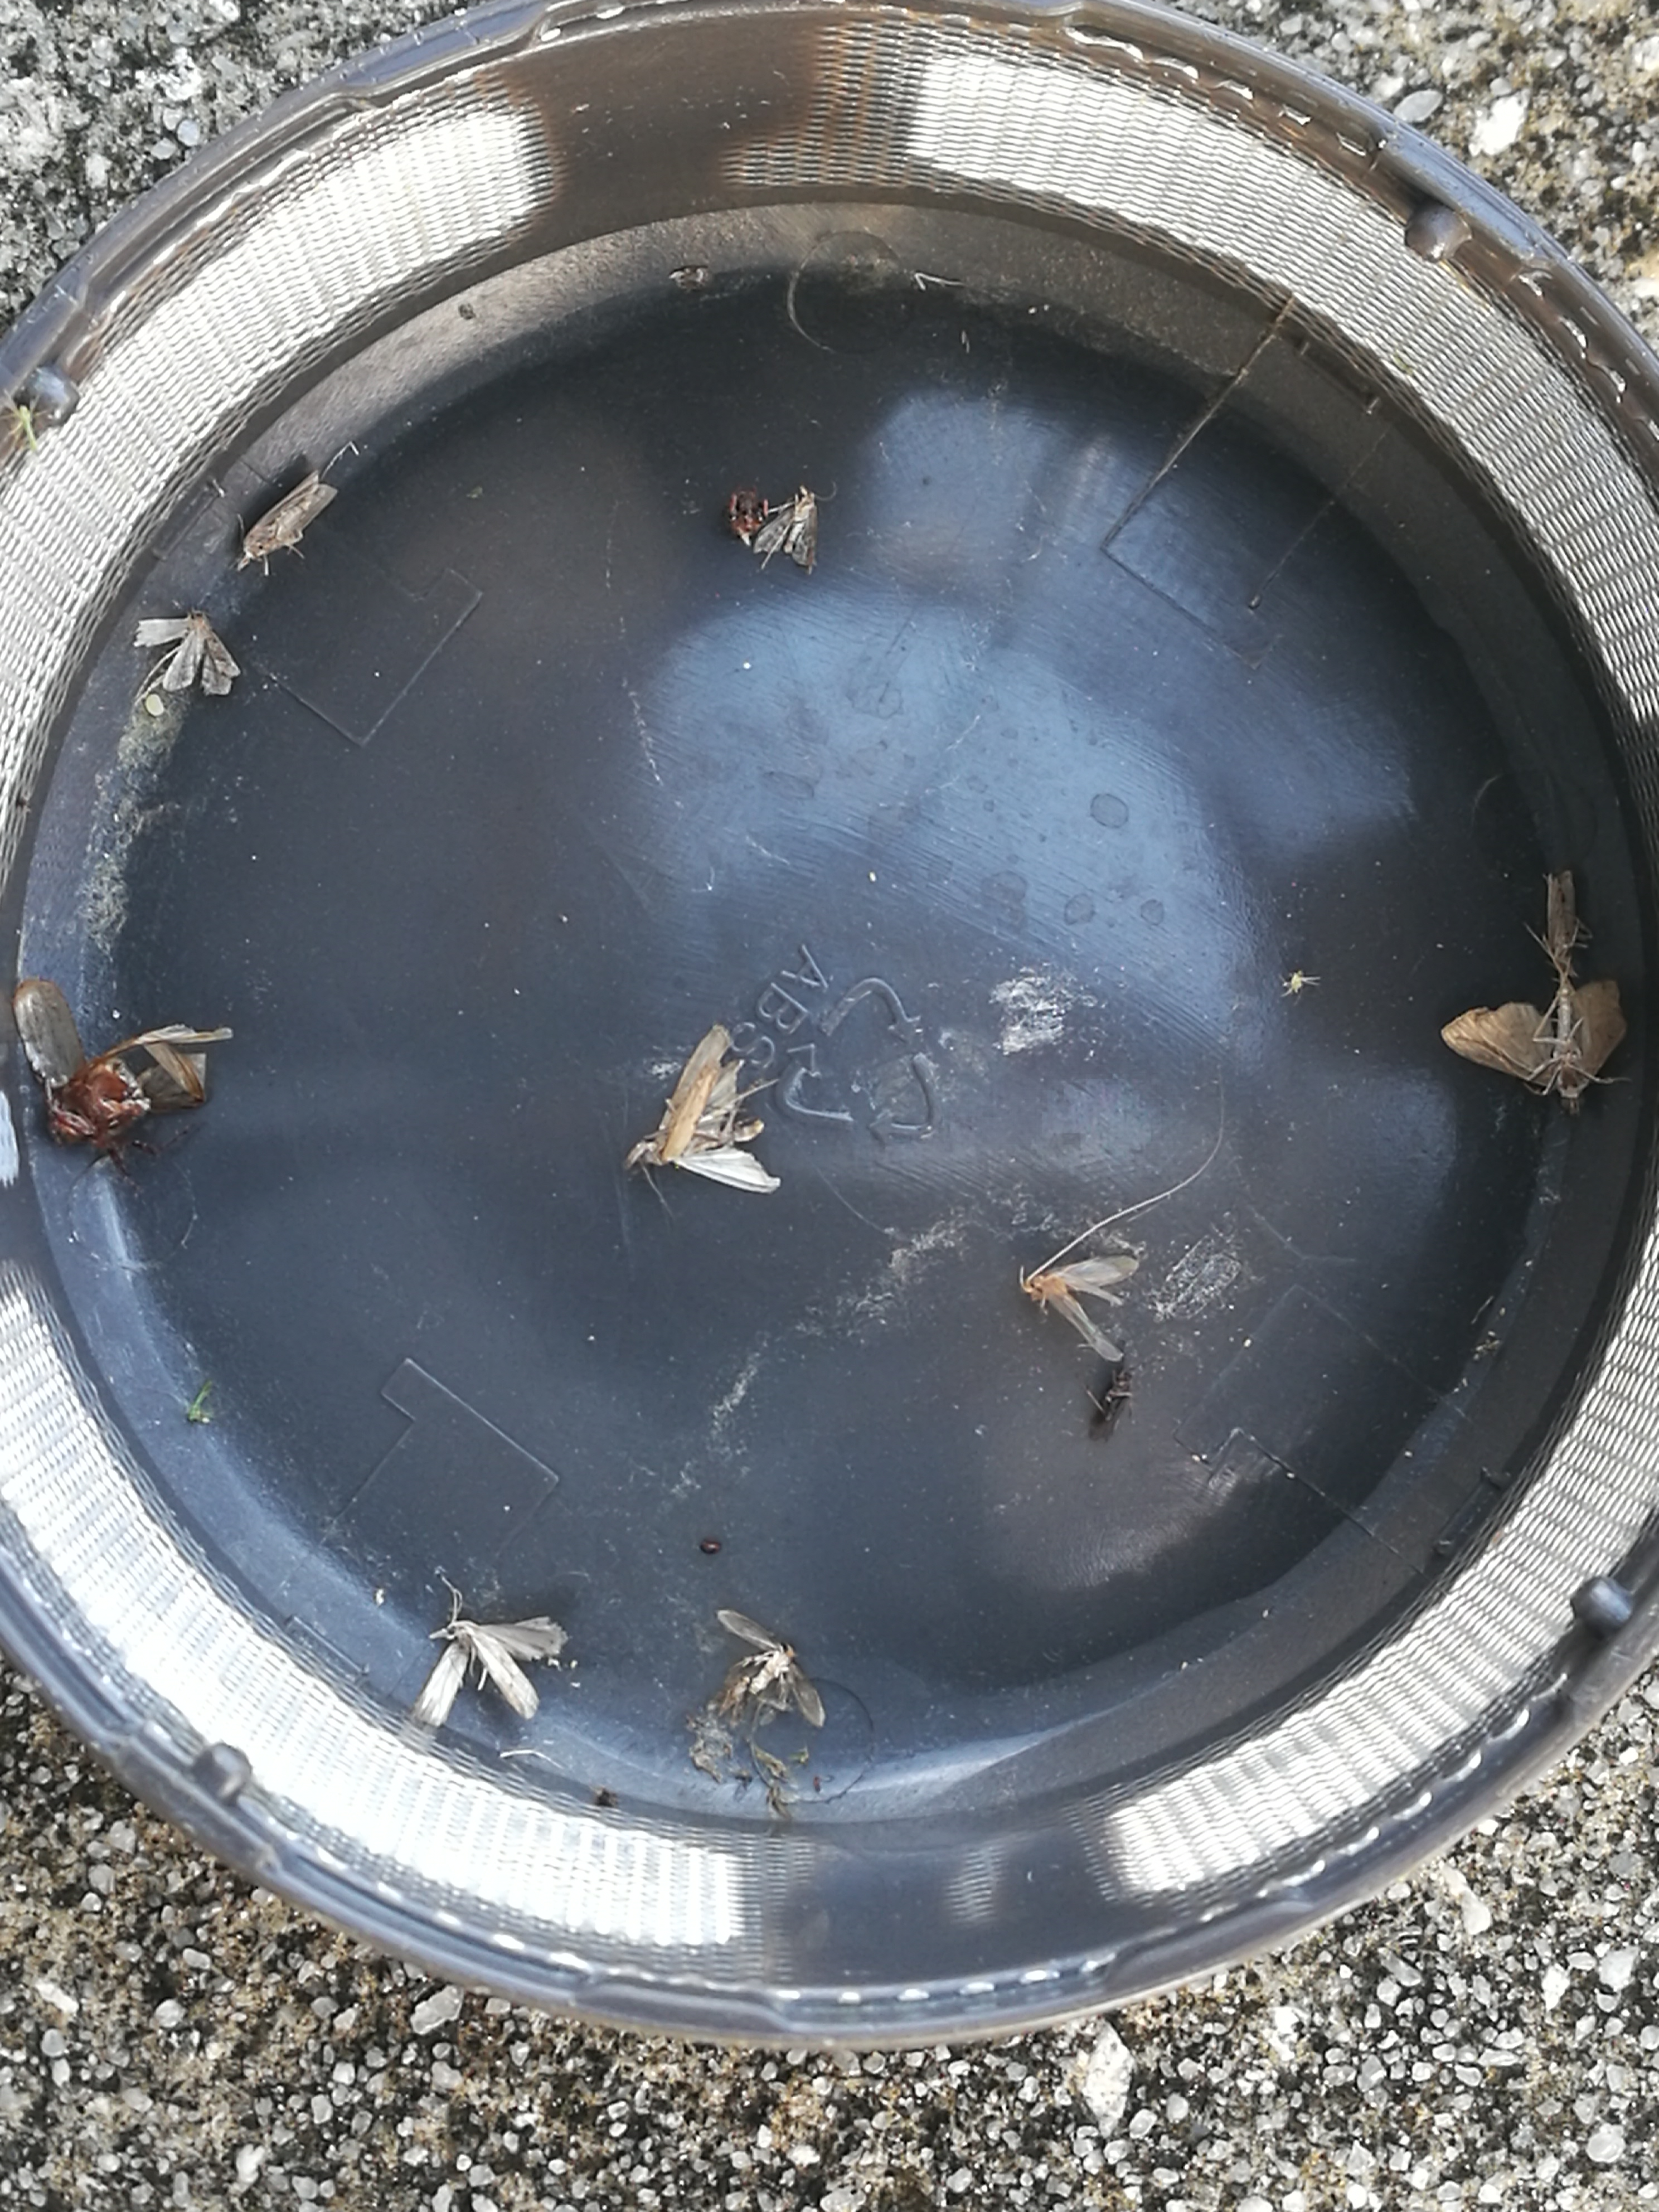beetle: (51, 1055, 148, 1143)
mosquito: (240, 470, 336, 566), (1546, 873, 1574, 975), (1096, 1367, 1133, 1437)
moth: (622, 1024, 779, 1195), (1441, 981, 1628, 1113), (413, 1616, 568, 1726), (716, 1609, 826, 1728), (1032, 1256, 1138, 1362), (131, 611, 240, 695), (753, 491, 816, 568)
